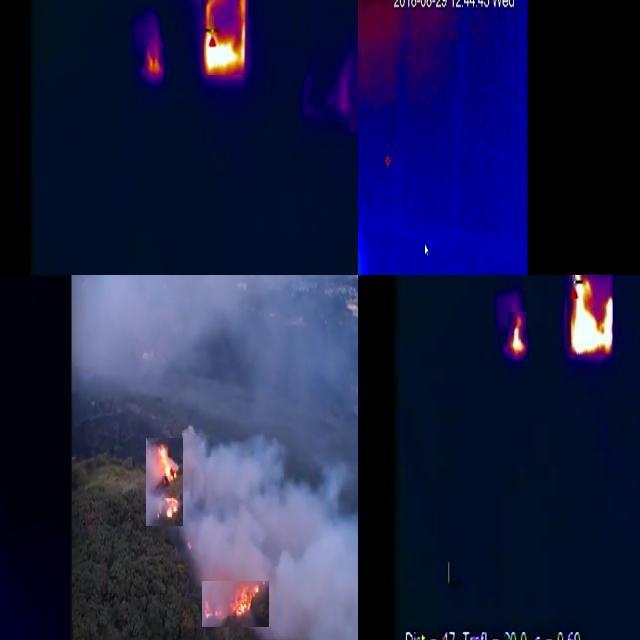fire: (568, 276, 614, 356), (202, 1, 249, 76), (509, 313, 527, 357), (146, 43, 164, 82)
